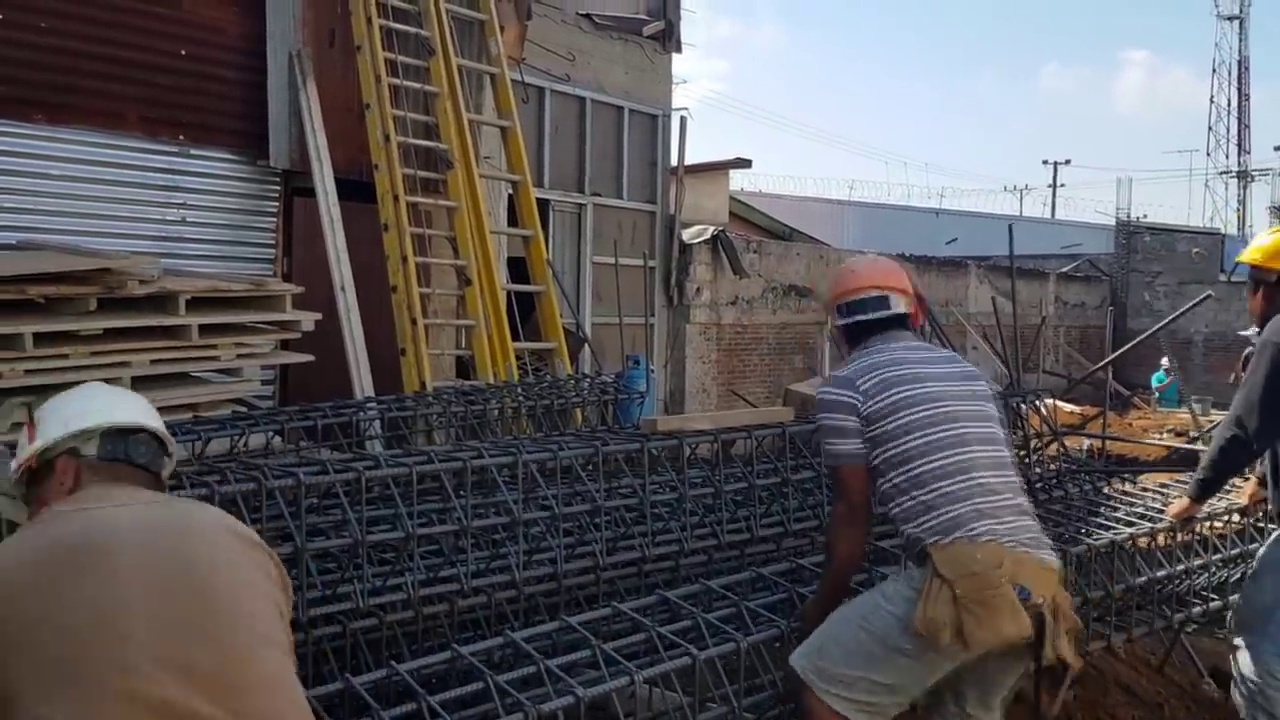helmet: (10, 392, 174, 498), (818, 258, 927, 339), (1231, 230, 1280, 276), (1160, 355, 1171, 369)
helmet-on: (4, 388, 180, 538), (822, 260, 930, 369), (1233, 233, 1280, 340), (1159, 355, 1172, 375)
person: (780, 251, 1077, 717), (0, 384, 316, 720), (1158, 232, 1280, 714), (1151, 355, 1181, 409)
